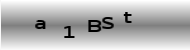1: (62, 25, 75, 38)
B: (87, 19, 102, 32)
S: (100, 17, 115, 29)
a: (34, 19, 46, 30)
t: (122, 11, 132, 24)
